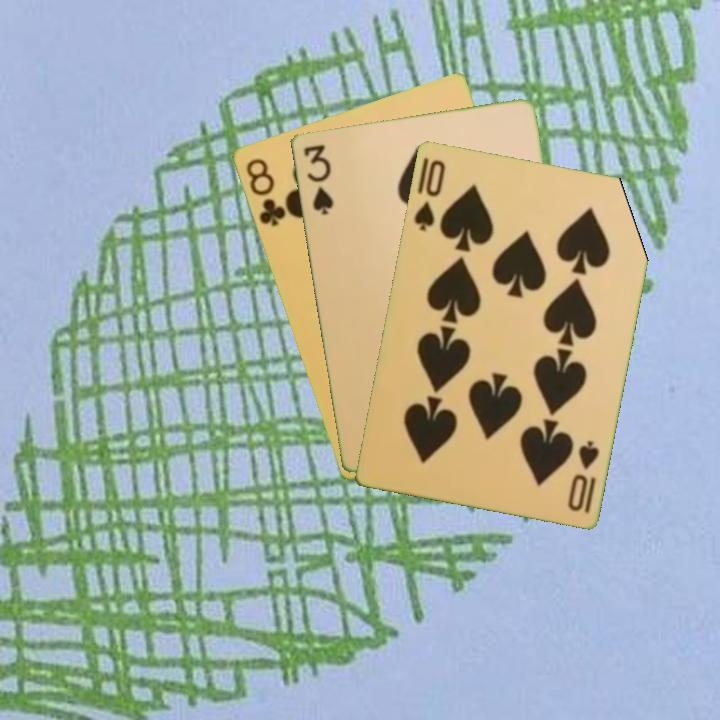10s: (564, 436, 602, 516), (410, 156, 448, 233)
3s: (300, 140, 336, 218)
8c: (242, 154, 289, 230)
